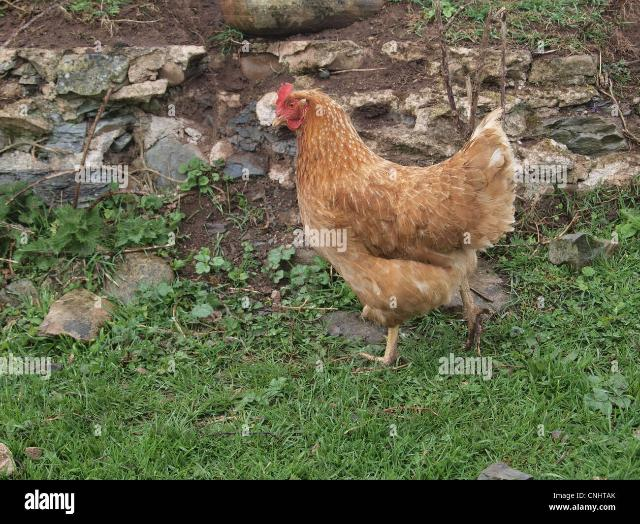Chicken: (272, 83, 520, 364)
